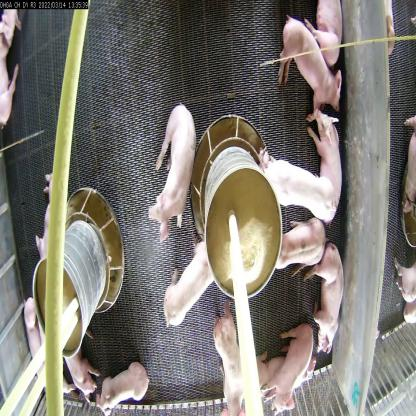Pig: (272, 4, 342, 116), (249, 137, 331, 220), (150, 105, 196, 236), (309, 102, 350, 227), (164, 235, 214, 337), (310, 232, 346, 353), (272, 312, 314, 414), (54, 325, 103, 399), (20, 291, 52, 403), (215, 309, 250, 409), (276, 212, 325, 277), (99, 355, 150, 415)
